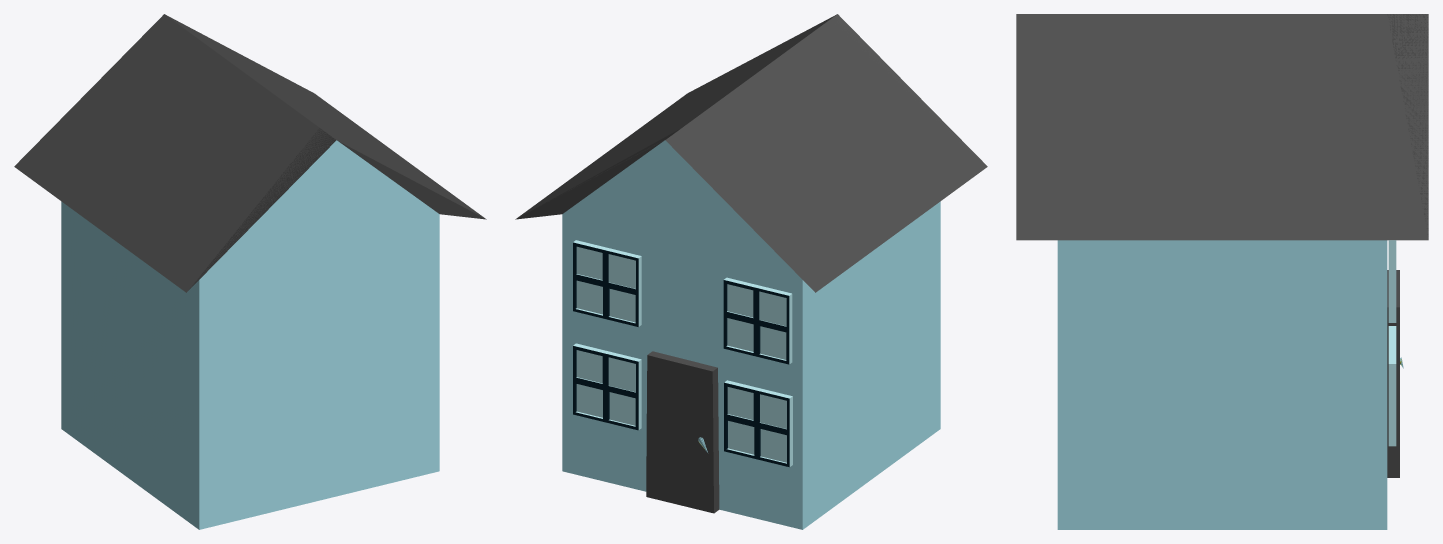
File: HouseBlue.fbx
3 views of the same model, side by side, from view 1: azimuth 30°, elevation 25°; view 2: azimuth 150°, elevation 25°; view 3: azimuth 270°, elevation 25° (orthographic). The views are drawn at different scales.
Parts seen in each view (by area): view 1: Cube; view 2: Cube, Cube.005, Cube.001, Cube.003, Cube.002; view 3: Cube, Cube.001, Cube.002.
Part boxes in pixels (left/top/right/bottom): Cube: left=14, top=14, right=486, bottom=529; Cube: left=515, top=14, right=987, bottom=529; Cube.005: left=723, top=277, right=792, bottom=364; Cube.001: left=573, top=343, right=641, bottom=430; Cube.003: left=724, top=380, right=792, bottom=467; Cube.002: left=573, top=240, right=641, bottom=326; Cube: left=1016, top=14, right=1428, bottom=529; Cube.001: left=1388, top=326, right=1396, bottom=446; Cube.002: left=1388, top=240, right=1396, bottom=322.
Size of the model in its own units: 915 by 1085 by 909.
